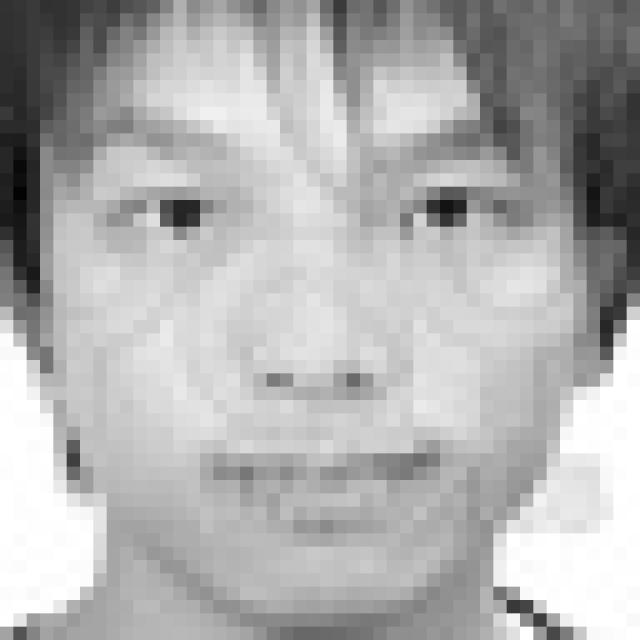neutral: (69, 114, 550, 546)
